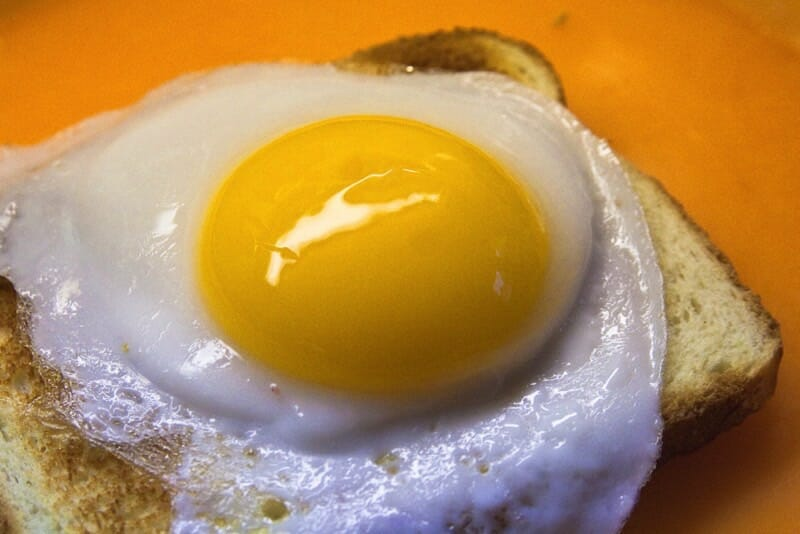fried egg: (34, 83, 632, 483)
